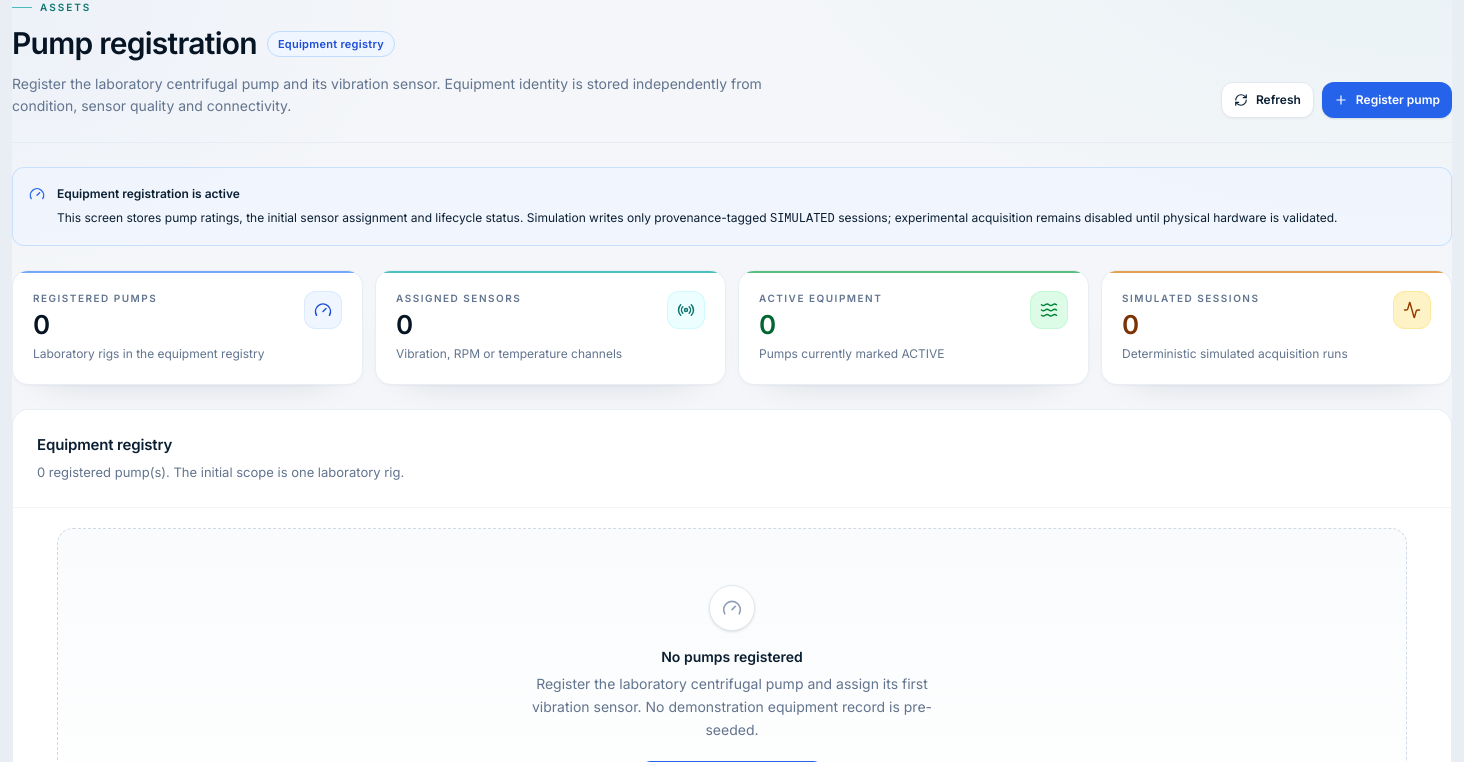
Scenario: PumpsPage › opens the registration form from the empty state
Click the button "Register pump".
click(1387, 100)  # box [1322,82,1452,118]
(page scrolled)
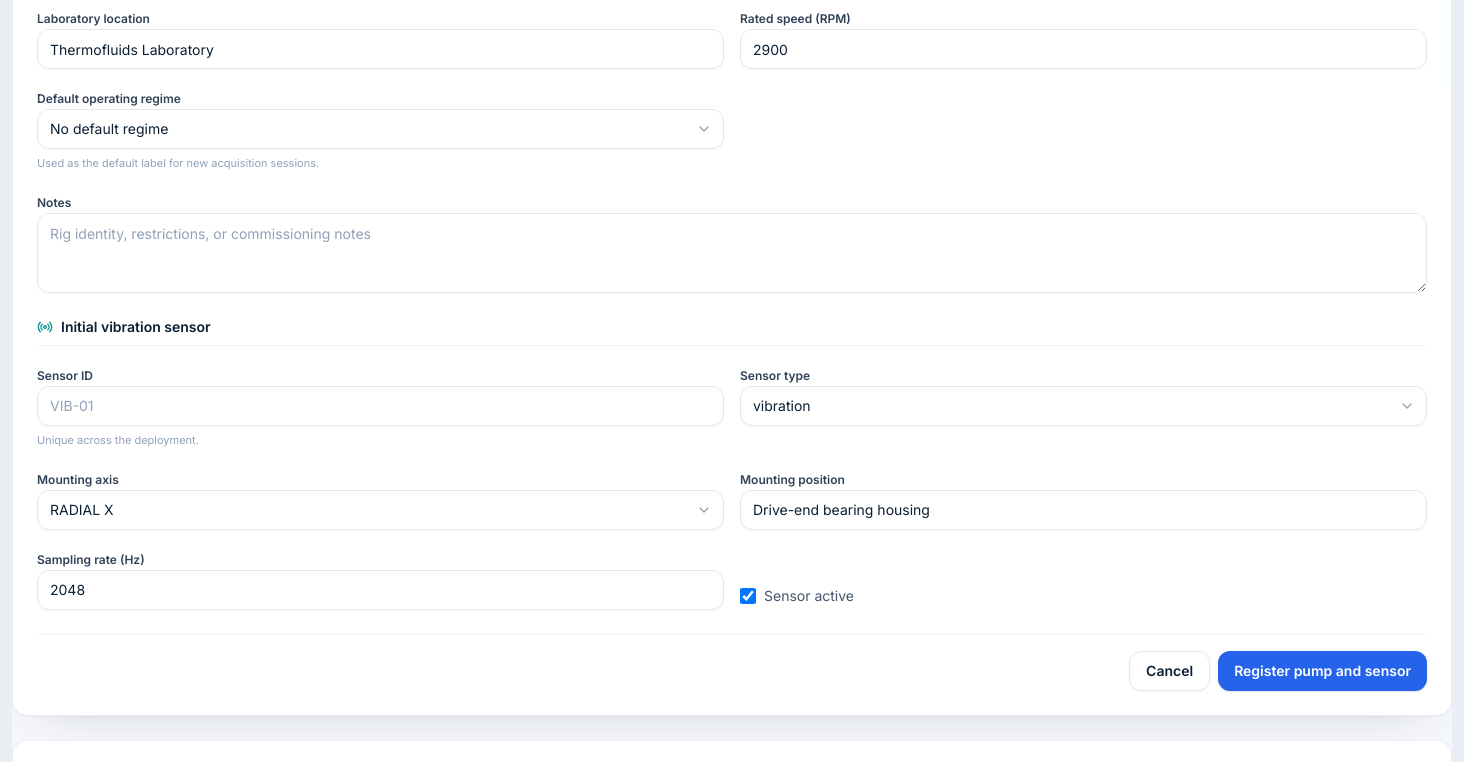
Now the field labelled "Sensor ID" is shown, box [37,386,724,426]
